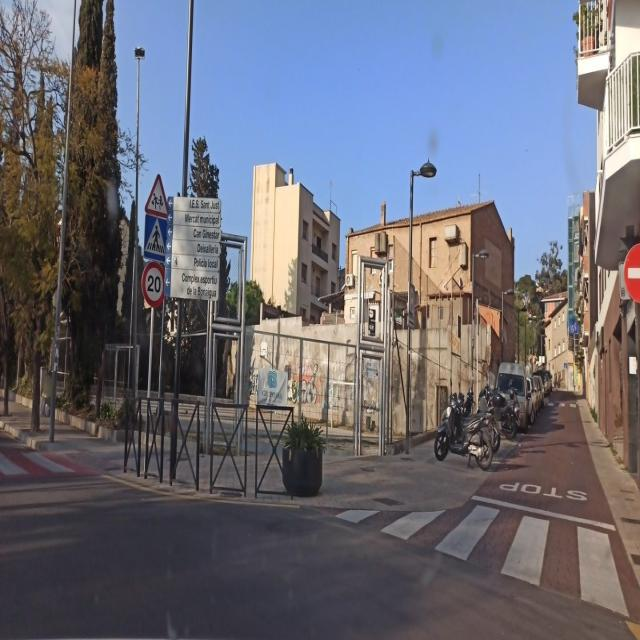bike: (434, 392, 492, 464)
car: (476, 384, 521, 441), (497, 364, 535, 428), (534, 368, 554, 394), (531, 374, 545, 408)
